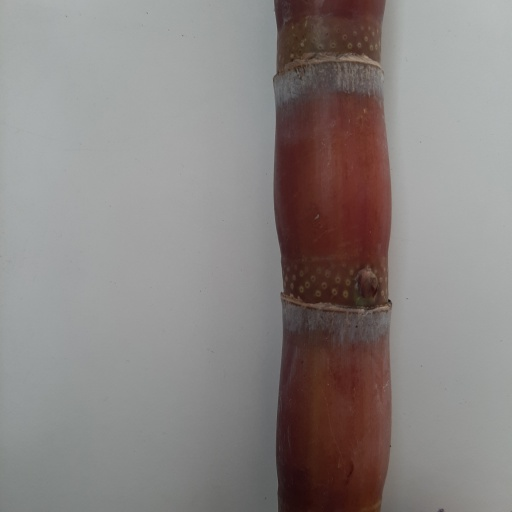Bud: (356, 267, 383, 304)
